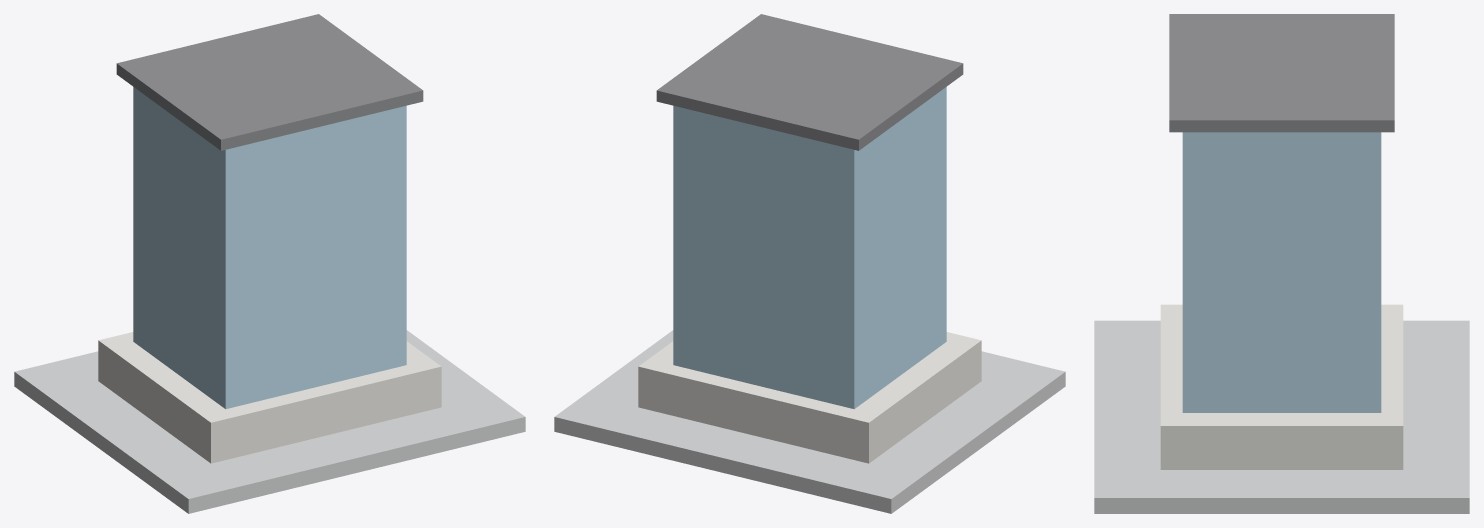
Rendered from office.glb.
3 views of the same model, side by side, from view 1: azimuth 30°, elevation 25°; view 2: azimuth 150°, elevation 25°; view 3: azimuth 270°, elevation 25° (orthographic). The views are drawn at different scales.
Parts seen in each view (by area): view 1: tower, plaza, roof, podium; view 2: tower, plaza, roof, podium; view 3: tower, plaza, roof, podium.
Part boxes in pixels (x1,y1,x2,y2): tower: [133, 87, 406, 409]; plaza: [14, 330, 525, 513]; roof: [116, 14, 423, 150]; podium: [98, 332, 441, 463]; tower: [673, 87, 946, 409]; plaza: [554, 330, 1065, 513]; roof: [656, 14, 963, 150]; podium: [638, 332, 981, 463]; tower: [1182, 132, 1381, 412]; plaza: [1094, 320, 1469, 513]; roof: [1169, 14, 1394, 132]; podium: [1160, 304, 1403, 469].
Bounding box in the file's own units: 1.9 × 1.79 × 1.7.
